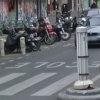Crosswalk: (7, 62, 64, 100)
